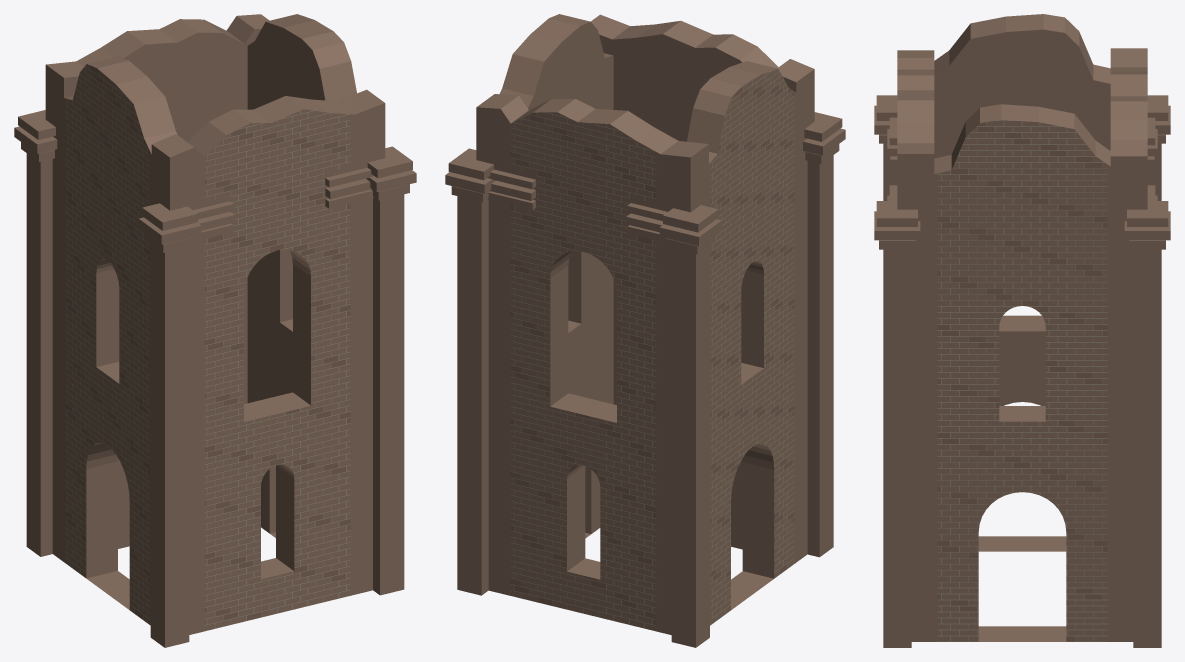
The model's file is colonial-dorchester-bell-tower-near.glb.
3 views of the same model, side by side, from view 1: azimuth 30°, elevation 25°; view 2: azimuth 150°, elevation 25°; view 3: azimuth 270°, elevation 25° (orthographic).
Visible parts, largest first — view 1: colonial-dorchester-bell-tower-0-brick, colonial-dorchester-bell-tower-0-mortar, colonial-dorchester-bell-tower-0-brickShade; view 2: colonial-dorchester-bell-tower-0-brick, colonial-dorchester-bell-tower-0-mortar, colonial-dorchester-bell-tower-0-brickShade; view 3: colonial-dorchester-bell-tower-0-brick, colonial-dorchester-bell-tower-0-mortar, colonial-dorchester-bell-tower-0-brickShade.
Part boxes in pixels (x1,y1,x2,y2): colonial-dorchester-bell-tower-0-brick: (14,14,416,647); colonial-dorchester-bell-tower-0-mortar: (65,65,350,631); colonial-dorchester-bell-tower-0-brickShade: (65,65,350,620); colonial-dorchester-bell-tower-0-brick: (445,14,845,647); colonial-dorchester-bell-tower-0-mortar: (510,70,794,631); colonial-dorchester-bell-tower-0-brickShade: (510,84,794,624); colonial-dorchester-bell-tower-0-brick: (874,14,1170,647); colonial-dorchester-bell-tower-0-mortar: (937,120,1107,641); colonial-dorchester-bell-tower-0-brickShade: (937,122,1107,641).
Bounding box in the file's own units: 6.28 × 12.2 × 6.28.
